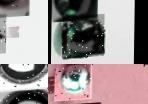ironball: (61, 15, 103, 59), (52, 64, 91, 100), (0, 64, 48, 93), (51, 0, 97, 22), (0, 87, 48, 103), (0, 0, 29, 19), (48, 76, 53, 94)
